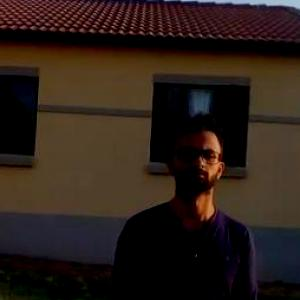follow: (98, 100, 262, 299)
